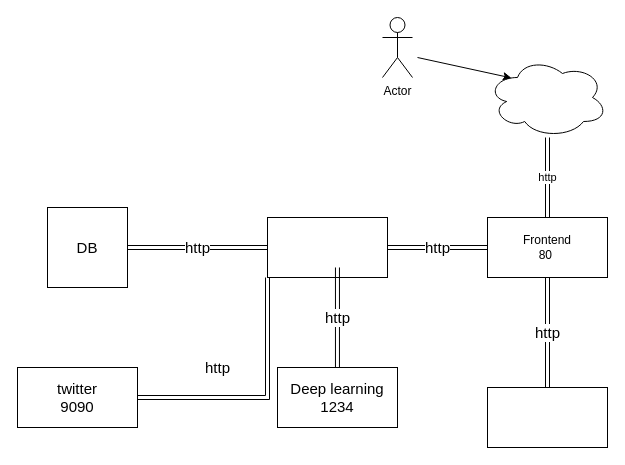
Image size: 625x465. Some labels were removed from this diagram. Each missing label, with the centre of its shape:
"Auth" goes at point 547,417.
"beckend 88" goes at point 327,247.
"www.app.com" goes at point 547,97.
